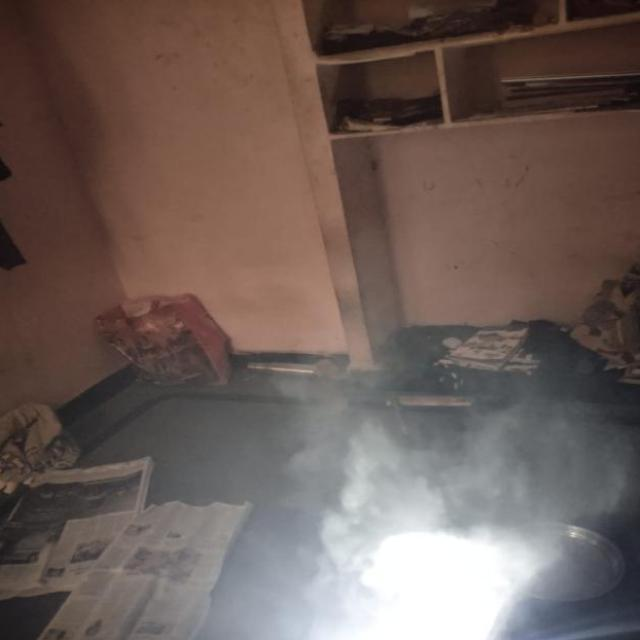fire: (271, 394, 584, 632)
